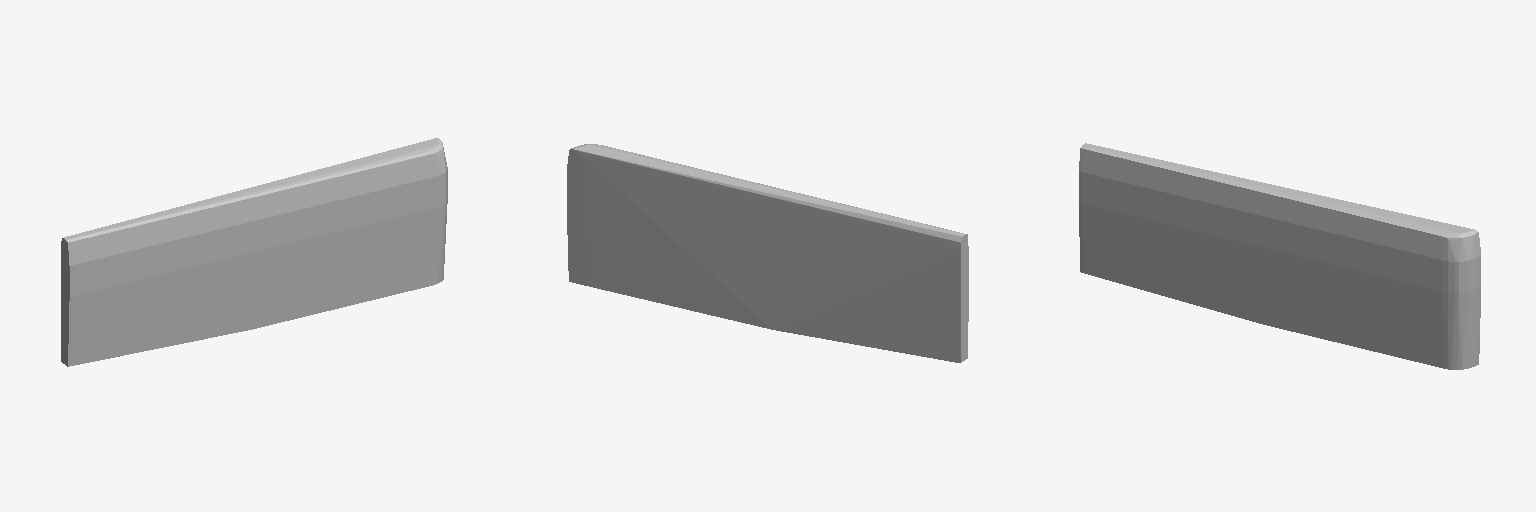
Rendered from plastic_box_collision_4.obj.
3 views of the same model, side by side, from view 1: azimuth 30°, elevation 25°; view 2: azimuth 150°, elevation 25°; view 3: azimuth 330°, elevation 25° (orthographic).
Size of the model in its own units: 0.5708 by 0.1883 by 0.0385.